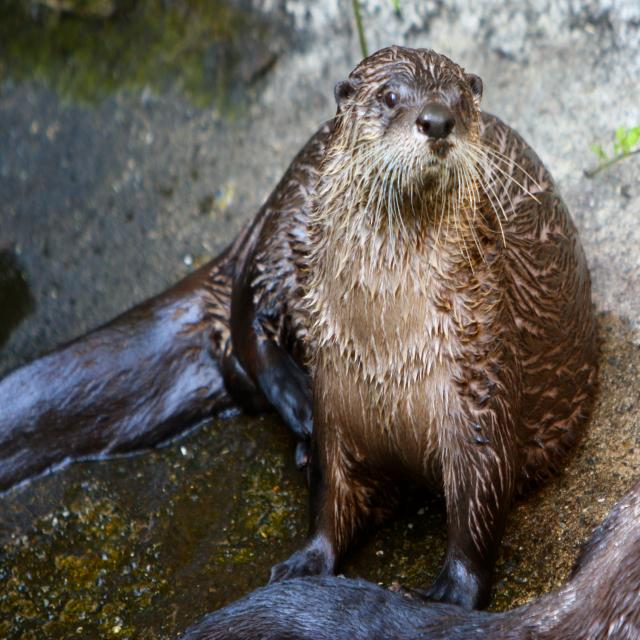otter: (231, 49, 593, 540)
